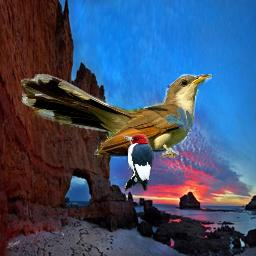Cuckoo: (21, 74, 212, 158)
Woodpecker: (123, 132, 154, 193)
